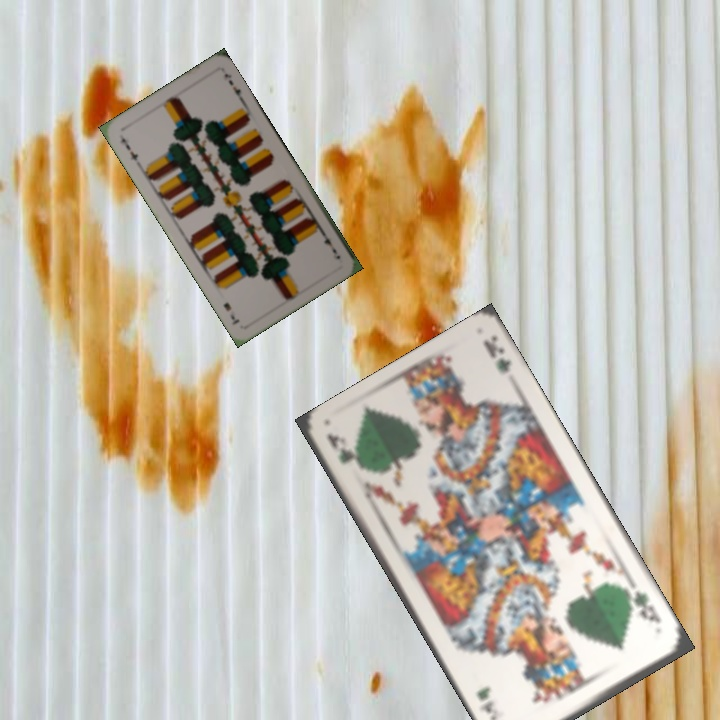E7: (116, 134, 141, 164), (316, 226, 340, 256)
GK: (322, 429, 364, 474), (623, 586, 664, 626)
